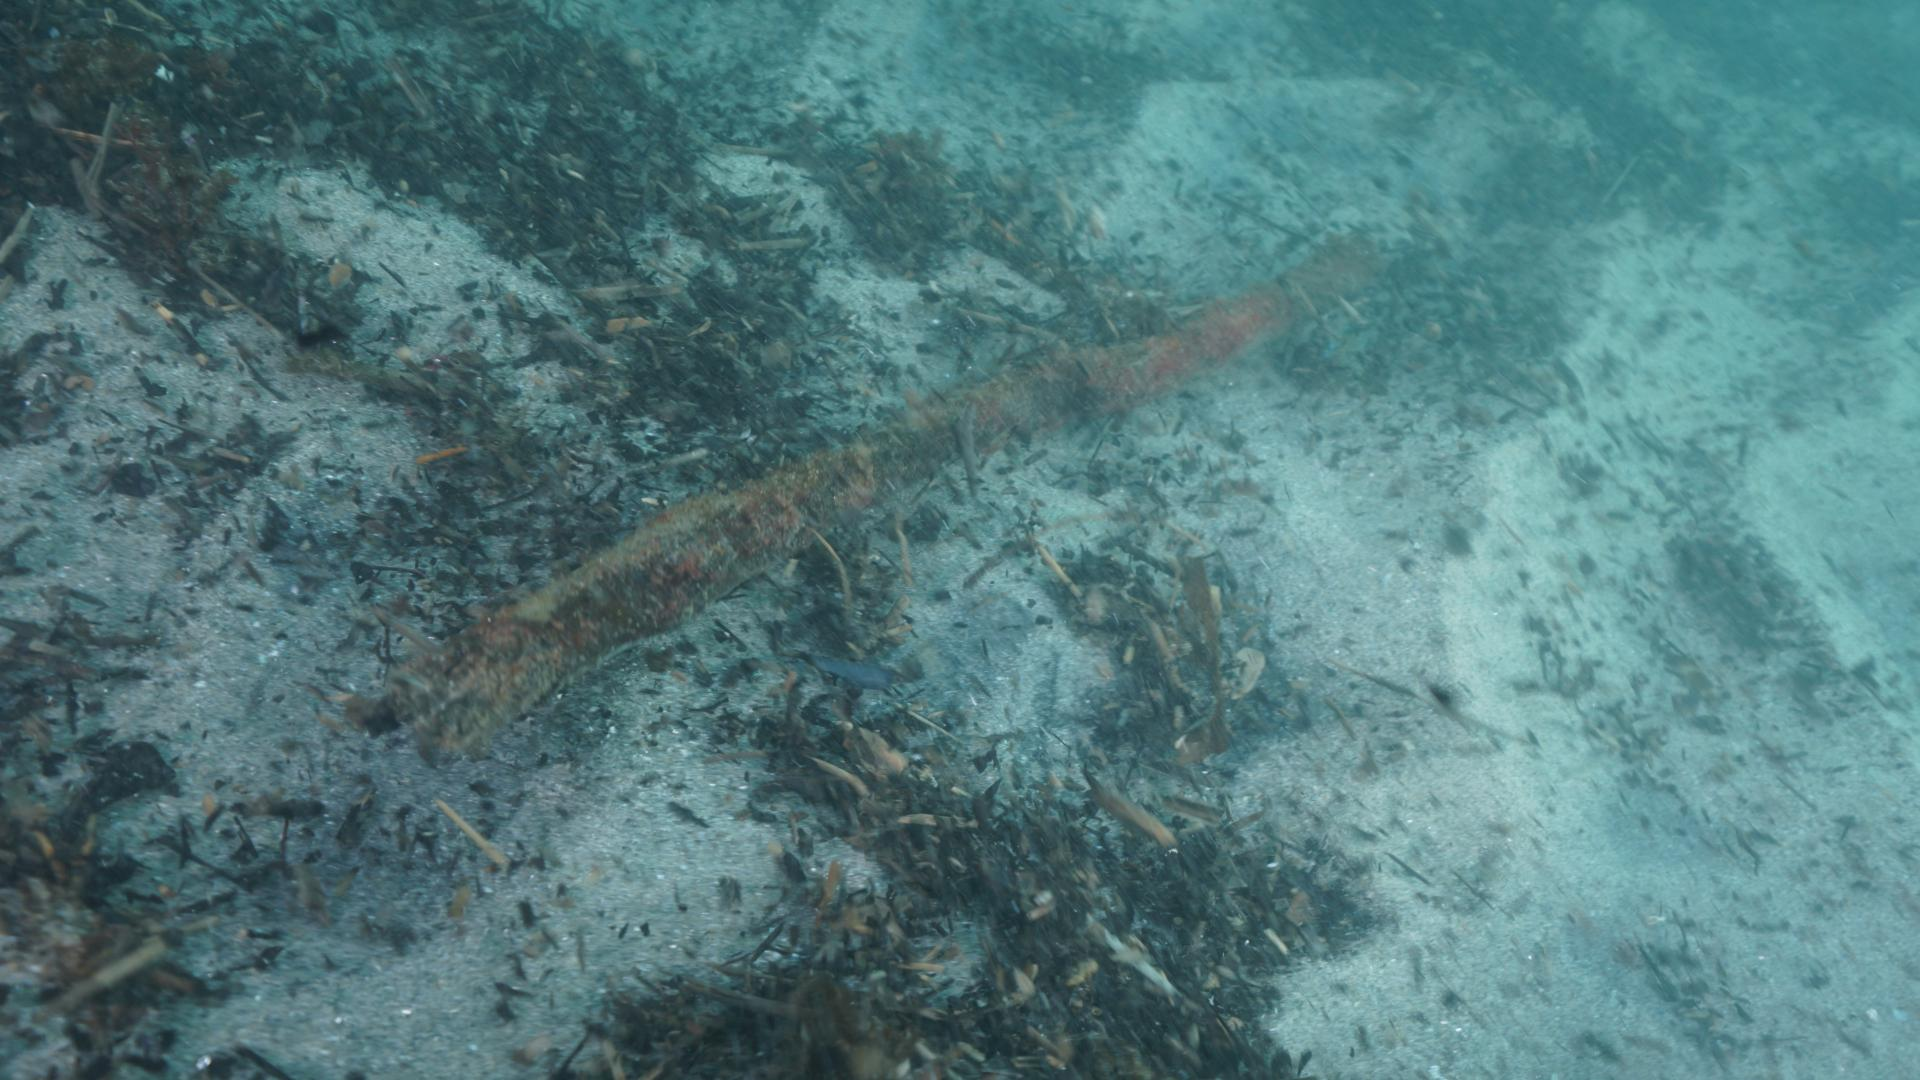wood: (347, 227, 1393, 750)
